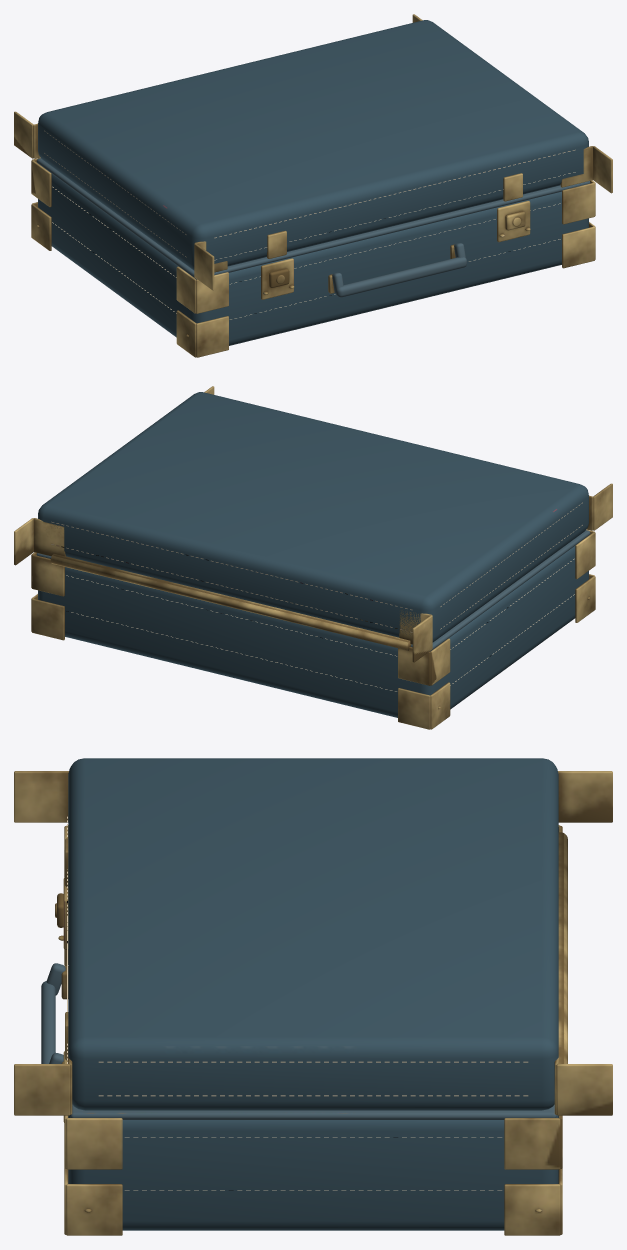
Rendered from sc_suitcase_v3.glb.
The picture shows the model from 3 angles, top to bottom: view 1: azimuth 30°, elevation 25°; view 2: azimuth 150°, elevation 25°; view 3: azimuth 270°, elevation 25°; orthographic projection. The views are drawn at different scales.
Visible parts, largest first — view 1: Suitcase_Lid, Suitcase_Base, Brass_Corners, Lid_Hardware, Brass_Latch, Base_Hardware; view 2: Suitcase_Lid, Suitcase_Base, Brass_Corners, Base_Hardware, Lid_Hardware; view 3: Suitcase_Lid, Suitcase_Base, Brass_Corners, Lid_Hardware, Base_Hardware, Brass_Latch.
Boxes of the visible parts, x1=… form: Suitcase_Lid: x1=38, y1=20, x2=588, y2=270; Suitcase_Base: x1=36, y1=158, x2=590, y2=345; Brass_Corners: x1=31, y1=157, x2=595, y2=357; Lid_Hardware: x1=14, y1=14, x2=612, y2=290; Brass_Latch: x1=261, y1=200, x2=530, y2=299; Base_Hardware: x1=328, y1=243, x2=466, y2=297; Suitcase_Lid: x1=38, y1=392, x2=588, y2=642; Suitcase_Base: x1=36, y1=530, x2=590, y2=717; Brass_Corners: x1=31, y1=529, x2=595, y2=729; Base_Hardware: x1=50, y1=554, x2=411, y2=650; Lid_Hardware: x1=14, y1=386, x2=612, y2=662; Suitcase_Lid: x1=67, y1=758, x2=558, y2=1110; Suitcase_Base: x1=67, y1=917, x2=558, y2=1230; Brass_Corners: x1=64, y1=825, x2=562, y2=1235; Lid_Hardware: x1=14, y1=771, x2=612, y2=1115; Base_Hardware: x1=41, y1=832, x2=567, y2=1063; Brass_Latch: x1=55, y1=877, x2=68, y2=1122.
Bounding box in the file's own units: 7.06 × 2.13 × 6.03.
Materials: 1 (1 with a texture image).
